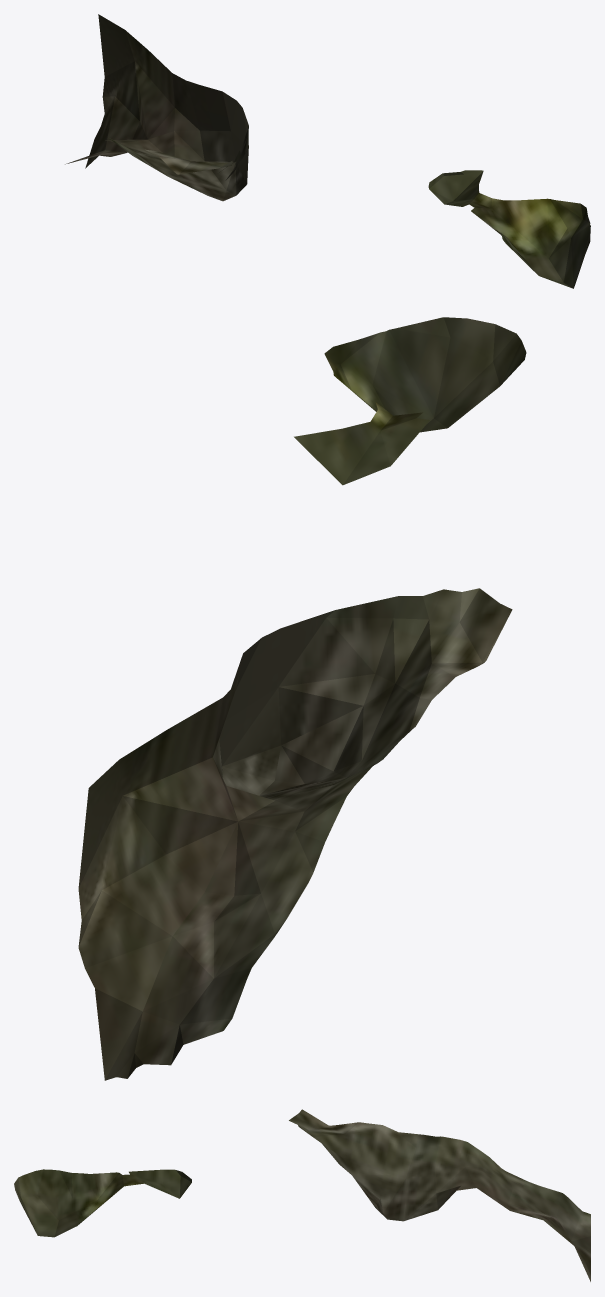
3 renders of one model, top to bottom at view 1: azimuth 30°, elevation 25°; view 2: azimuth 150°, elevation 25°; view 3: azimuth 270°, elevation 25°, orthographic. The views are drawn at different scales.
Size of the model in its own units: 1.15 by 0.7878 by 2.85.
Materials: 1 (1 with a texture image).
